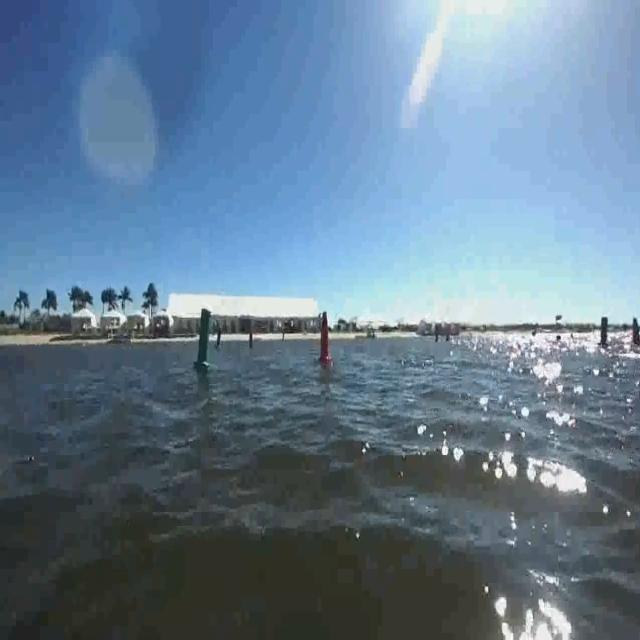green-column-buoy: (193, 307, 212, 370), (596, 318, 609, 351)
red-column-buoy: (317, 311, 333, 365), (630, 318, 640, 349)
